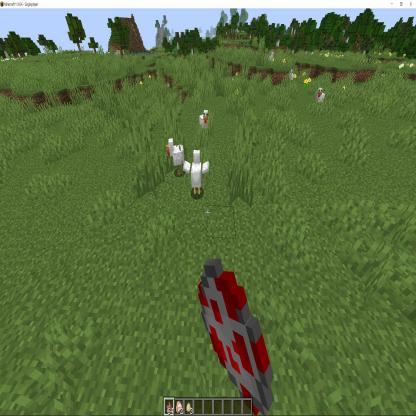minecraft-pigs: (185, 151, 210, 197), (168, 137, 186, 177), (197, 110, 211, 138), (316, 84, 326, 112), (288, 68, 296, 85), (268, 50, 276, 66)
